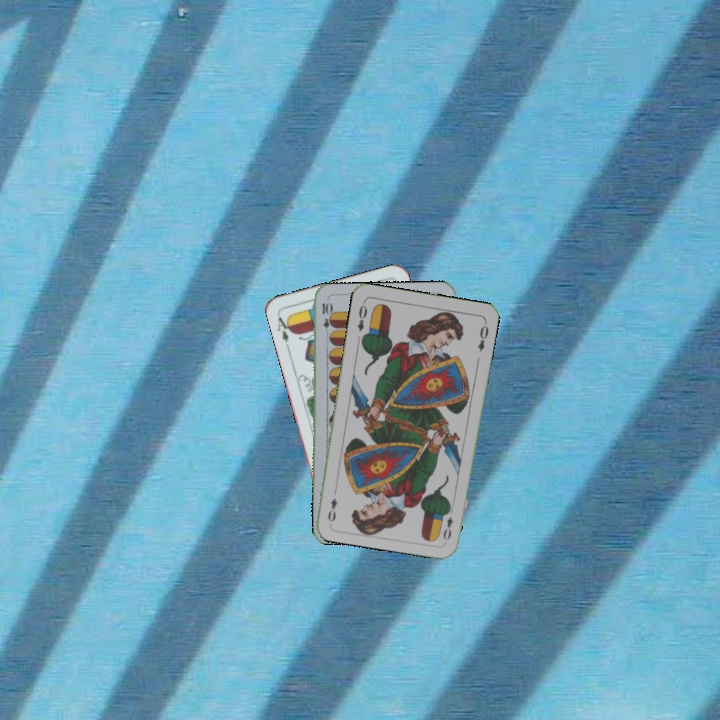E10: (318, 298, 332, 339)
EA: (273, 310, 295, 345)
EO: (439, 503, 455, 543), (353, 301, 370, 334)
